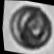correct: (2, 1, 54, 54)
